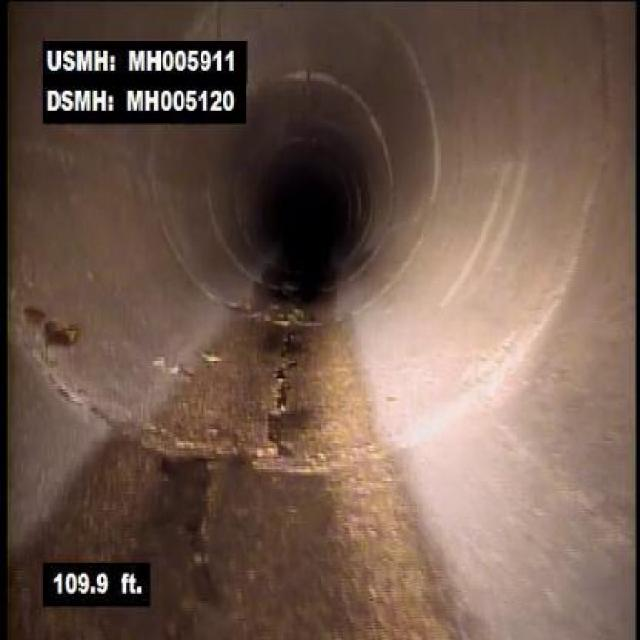Crack: (168, 483, 226, 637), (248, 328, 308, 438)
